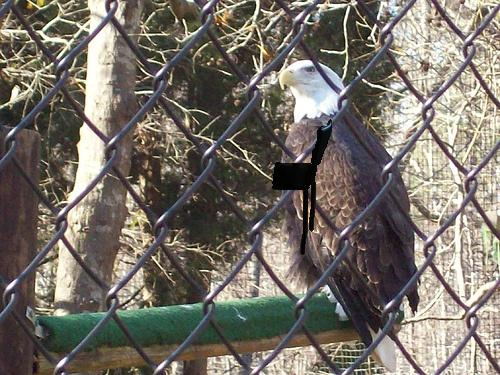tampered: (273, 120, 332, 255)
